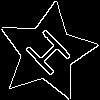H: (22, 27, 81, 85)
